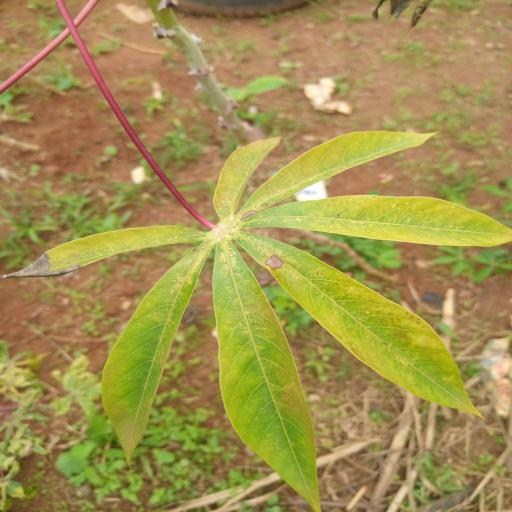Cassava_Mosaic: (5, 122, 512, 512)
